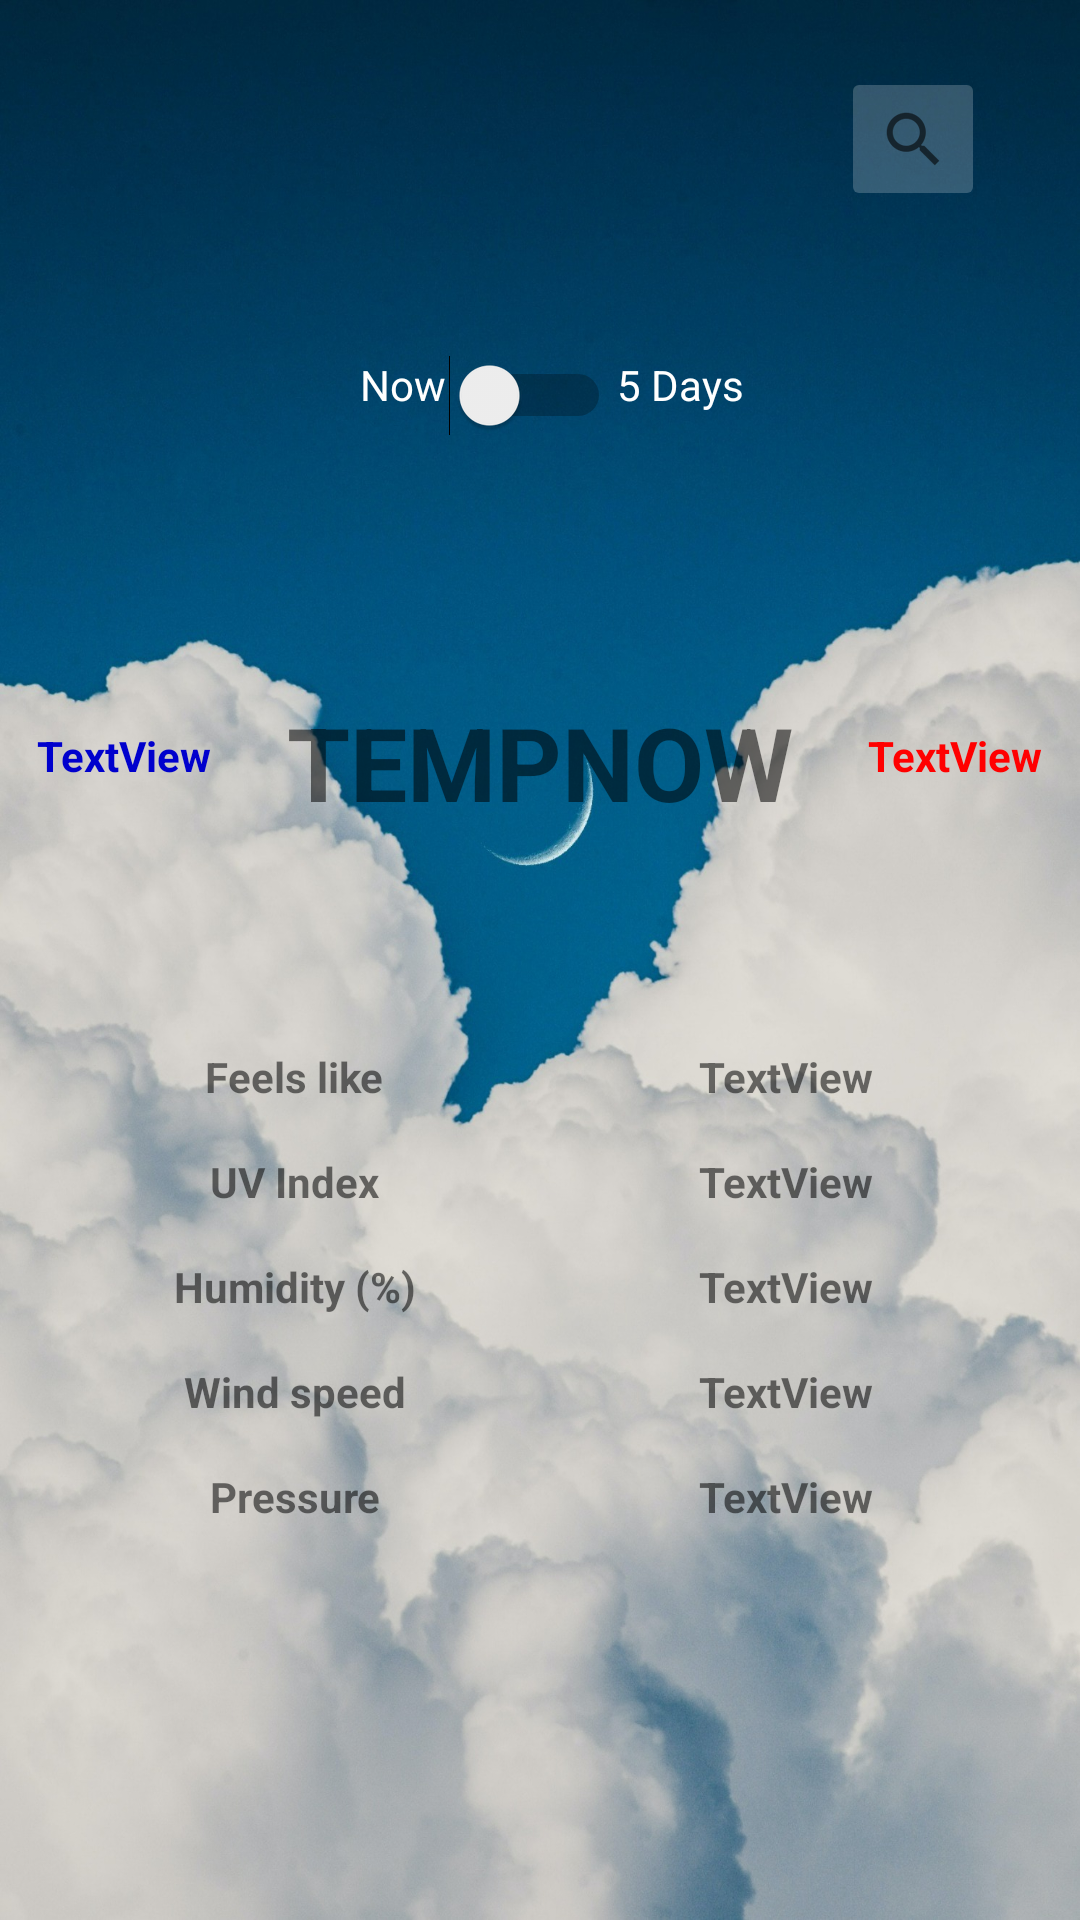

Icon click points for this 1080×1920 phone screenshot, format (x=x, y=y):
For changing location: (x=913, y=139)
